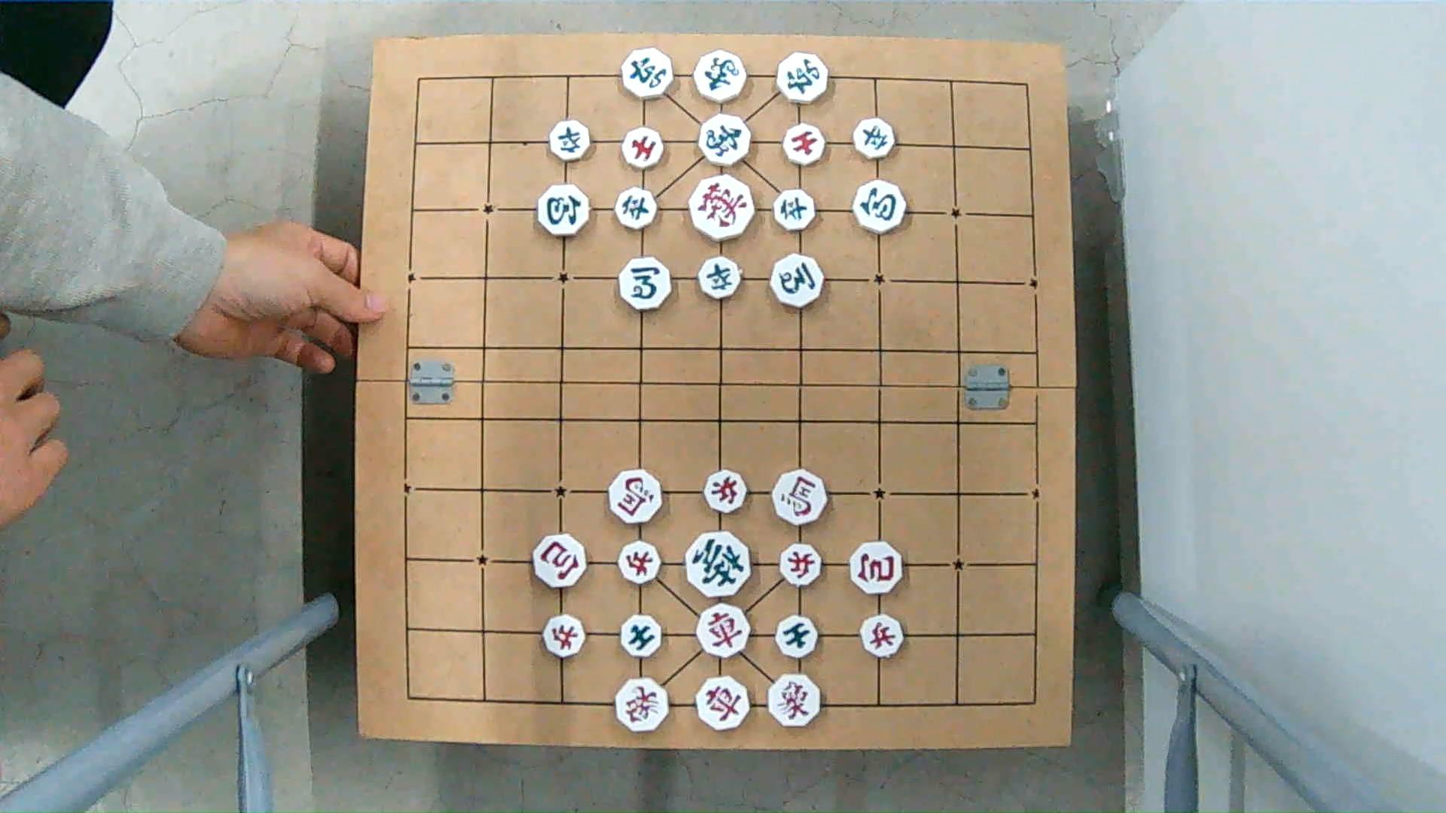cha_green: (619, 50, 679, 97), (775, 54, 832, 101)
cha_red: (692, 678, 753, 728), (694, 607, 754, 656)
jol_green: (696, 260, 745, 299), (850, 120, 899, 157), (547, 123, 593, 160), (615, 189, 658, 228), (772, 189, 816, 227)
jol_red: (858, 617, 907, 656), (780, 543, 822, 588), (703, 471, 747, 513), (542, 617, 587, 654), (618, 542, 659, 580)
ma_green: (768, 256, 826, 306), (619, 260, 676, 307)
ma_red: (773, 470, 828, 527), (602, 471, 664, 519)
po_green: (853, 179, 905, 235), (536, 187, 594, 236)
po_red: (530, 537, 592, 584), (846, 544, 905, 592)
sa_green: (617, 617, 666, 656), (775, 616, 819, 655)
sa_red: (782, 126, 831, 164), (620, 126, 667, 163)
sang_green: (697, 116, 755, 164), (694, 53, 752, 100)
sang_red: (614, 681, 671, 732), (768, 678, 819, 727)
wang_green: (684, 537, 752, 595)
wang_red: (688, 177, 759, 239)
